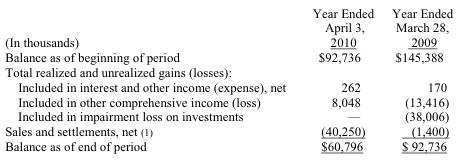table: (4, 3, 452, 154)
table column: (4, 3, 298, 154), (298, 3, 382, 154), (382, 3, 452, 154)
table column header: (4, 3, 452, 49)
table projected row header: (4, 63, 452, 78)
table row: (4, 3, 452, 49), (4, 138, 452, 154), (4, 63, 452, 78), (4, 78, 452, 93), (4, 93, 452, 108), (4, 108, 452, 123), (4, 123, 452, 138), (4, 49, 452, 63)
